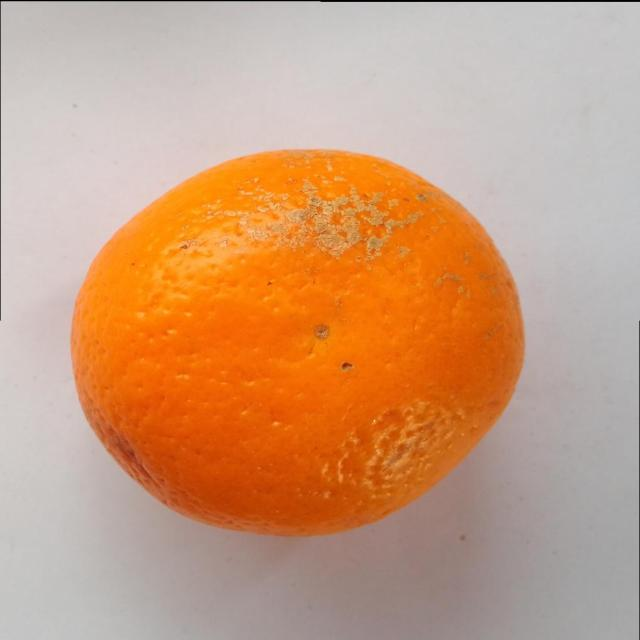fresh orange: (69, 146, 526, 538)
